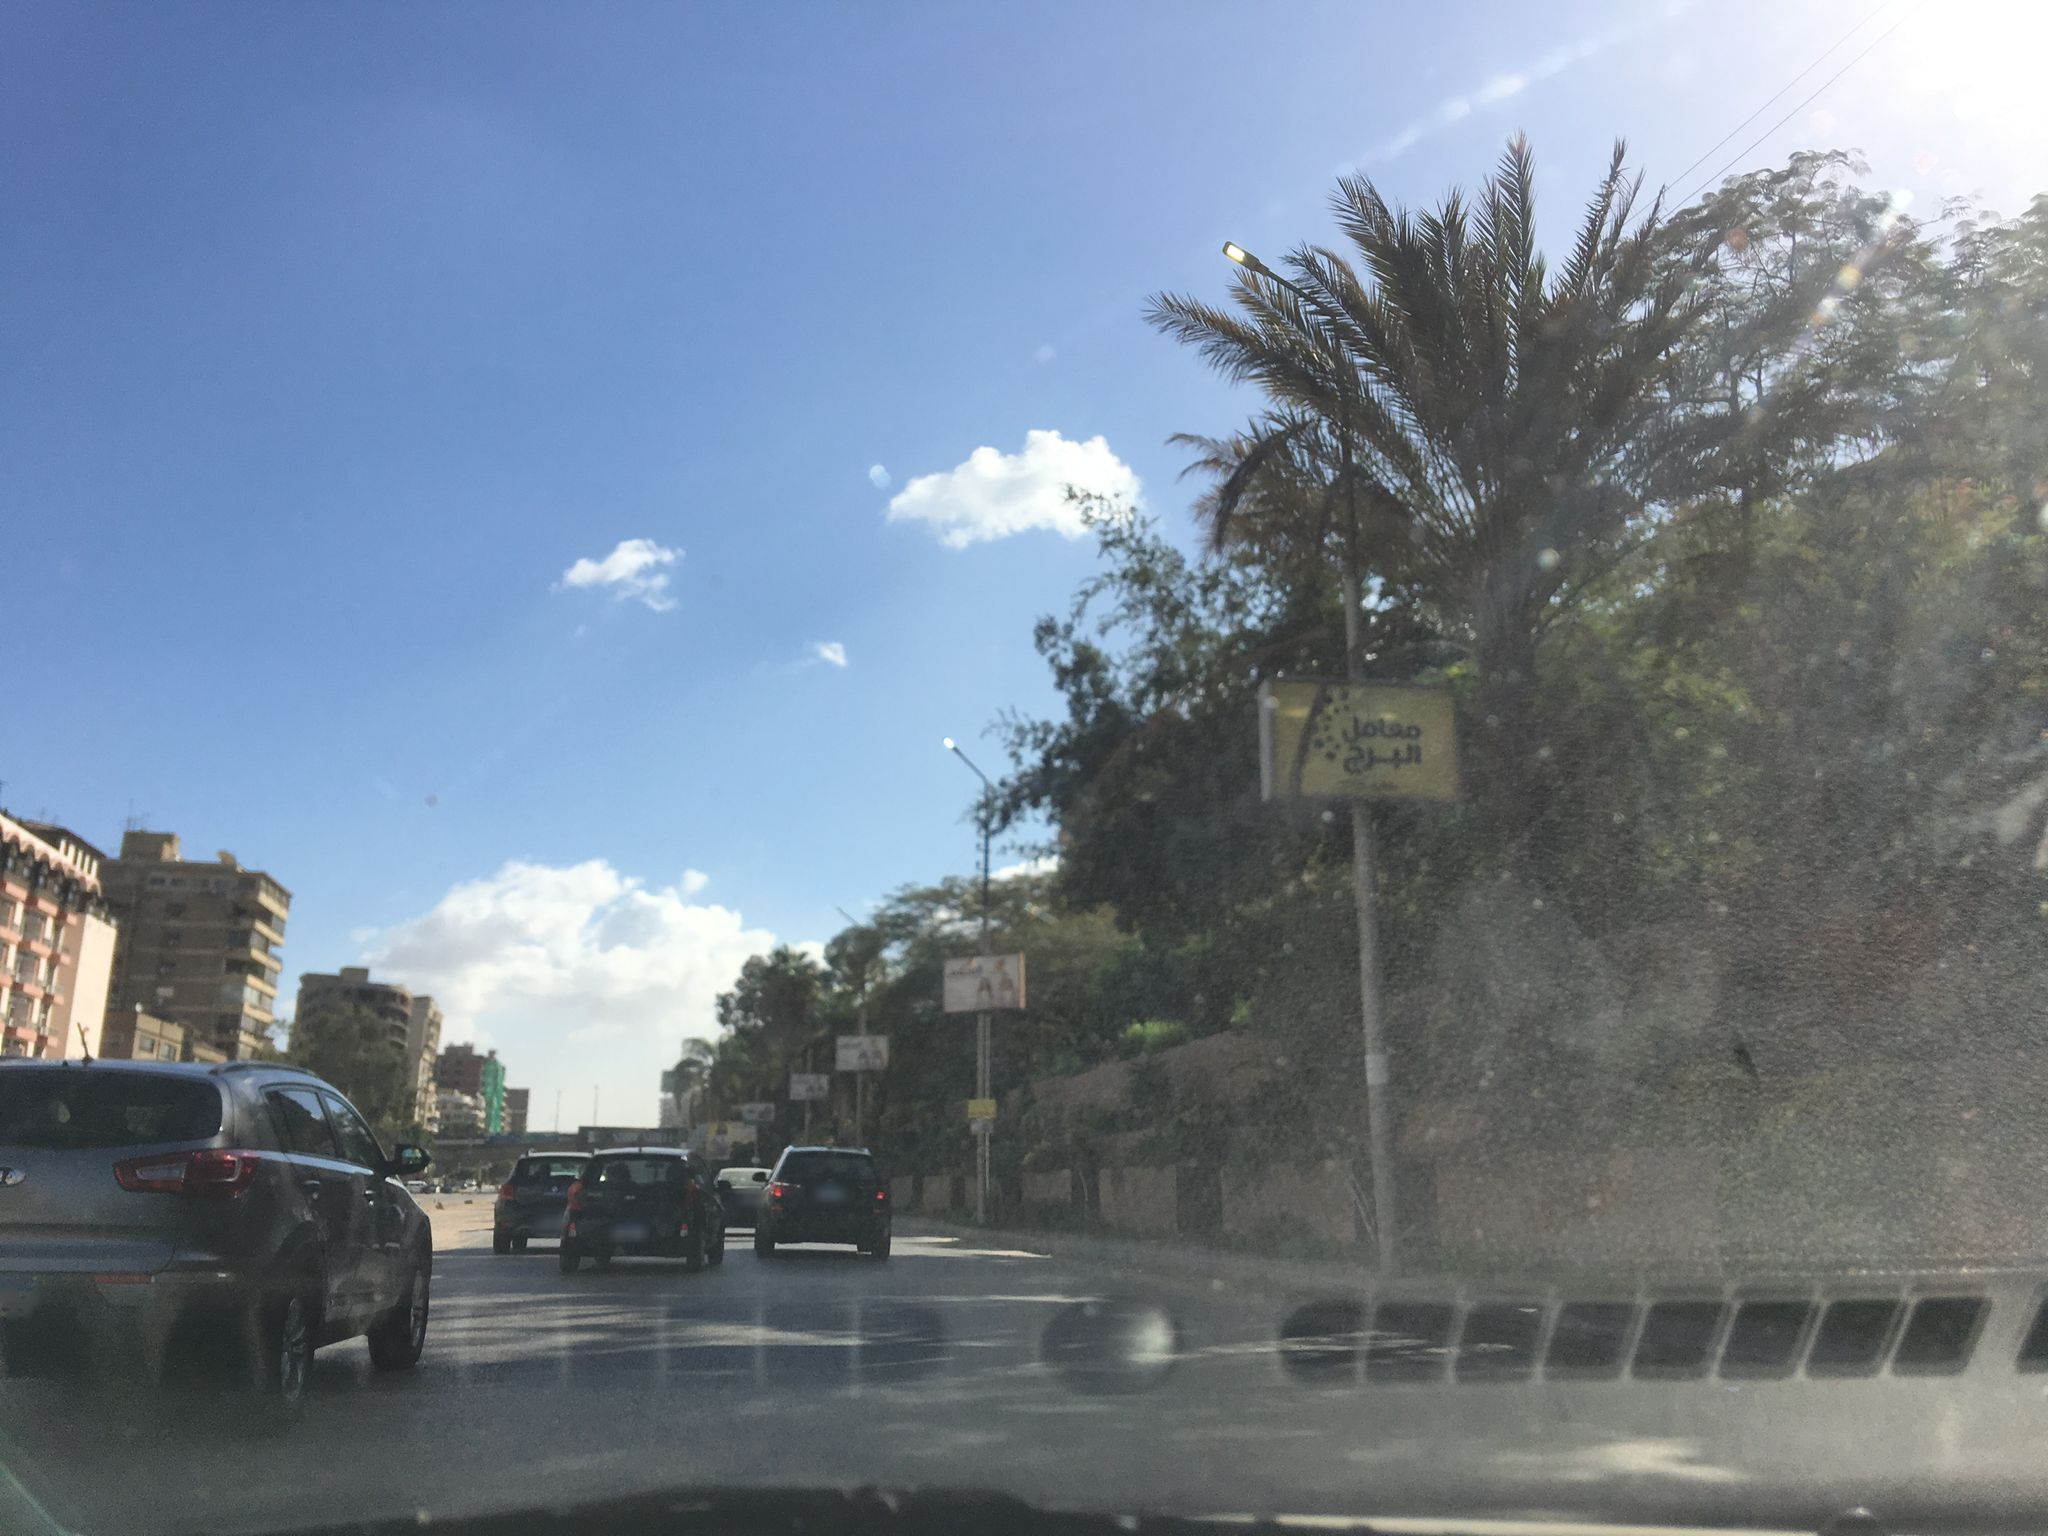car: (0, 1054, 440, 1421), (561, 1142, 735, 1271), (750, 1141, 897, 1255), (493, 1149, 590, 1254), (713, 1167, 774, 1231)
